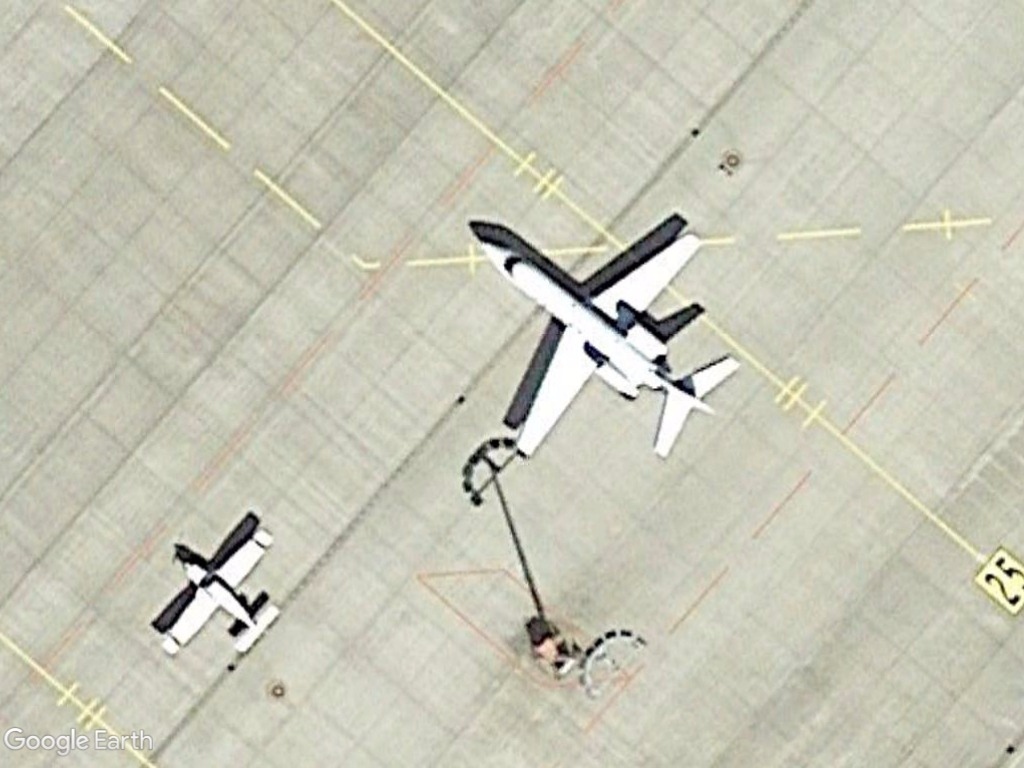chartered: (453, 222, 746, 477)
trainer: (150, 527, 304, 662)
